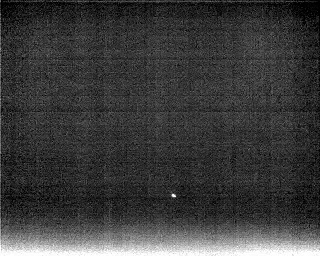BIRD: (169, 190, 178, 202)
